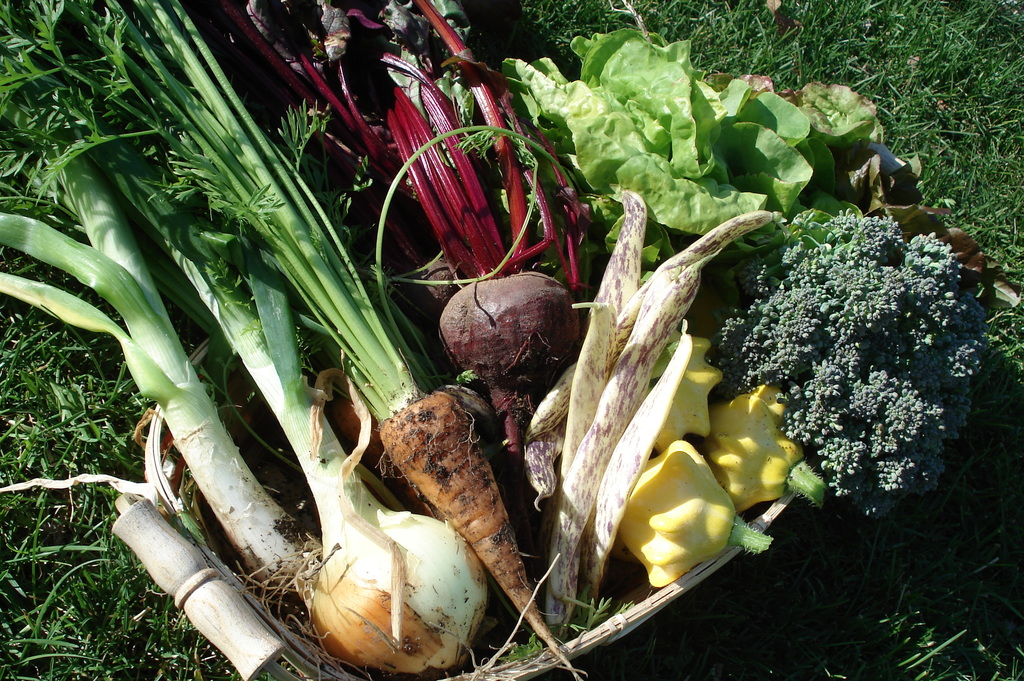Carrot: (0, 0, 586, 680), (369, 382, 577, 680)
